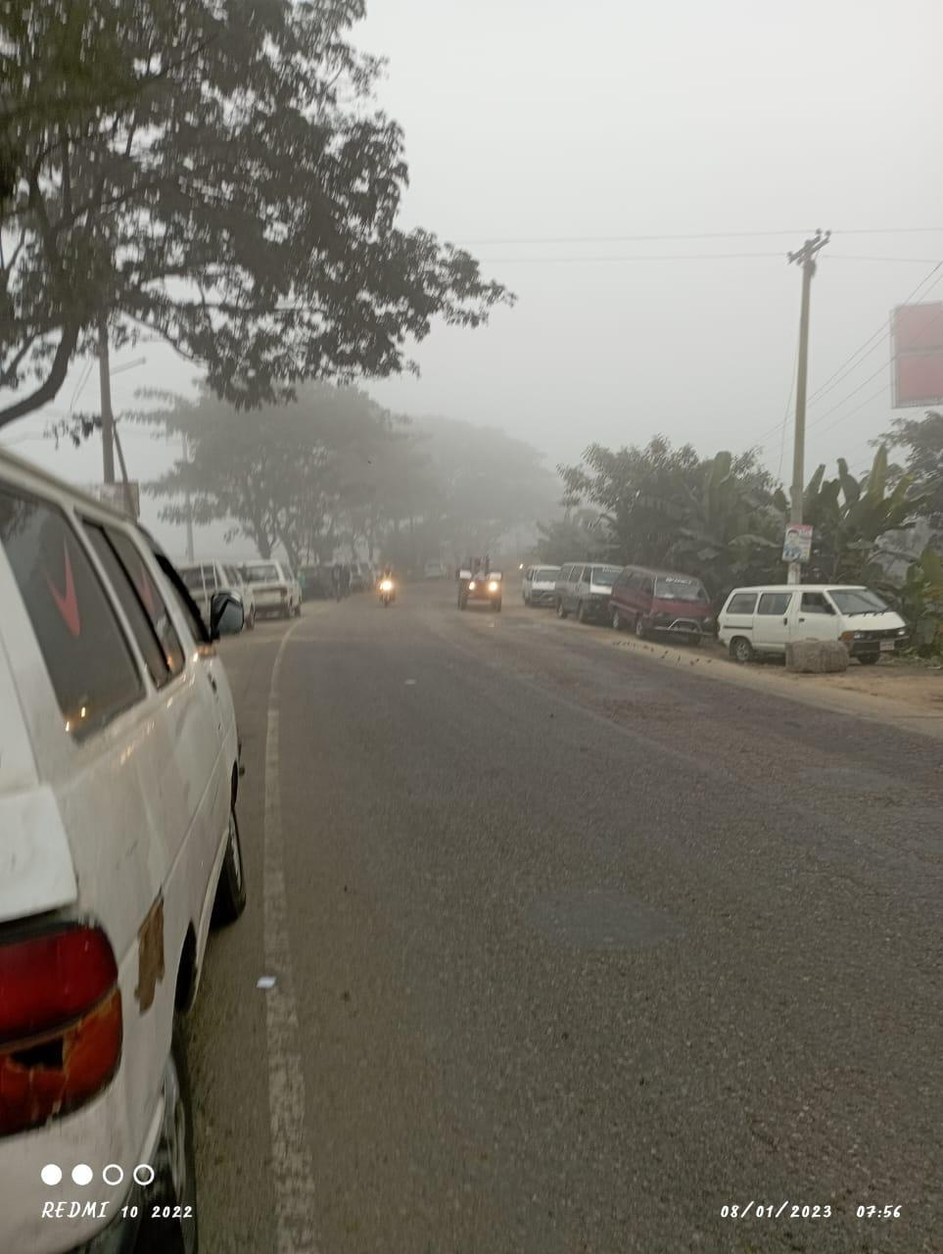Bike: (374, 559, 404, 612)
Car: (1, 440, 263, 1247), (715, 579, 906, 657), (609, 560, 717, 644), (237, 555, 311, 628), (544, 560, 612, 620)
Truck: (451, 550, 518, 618)
